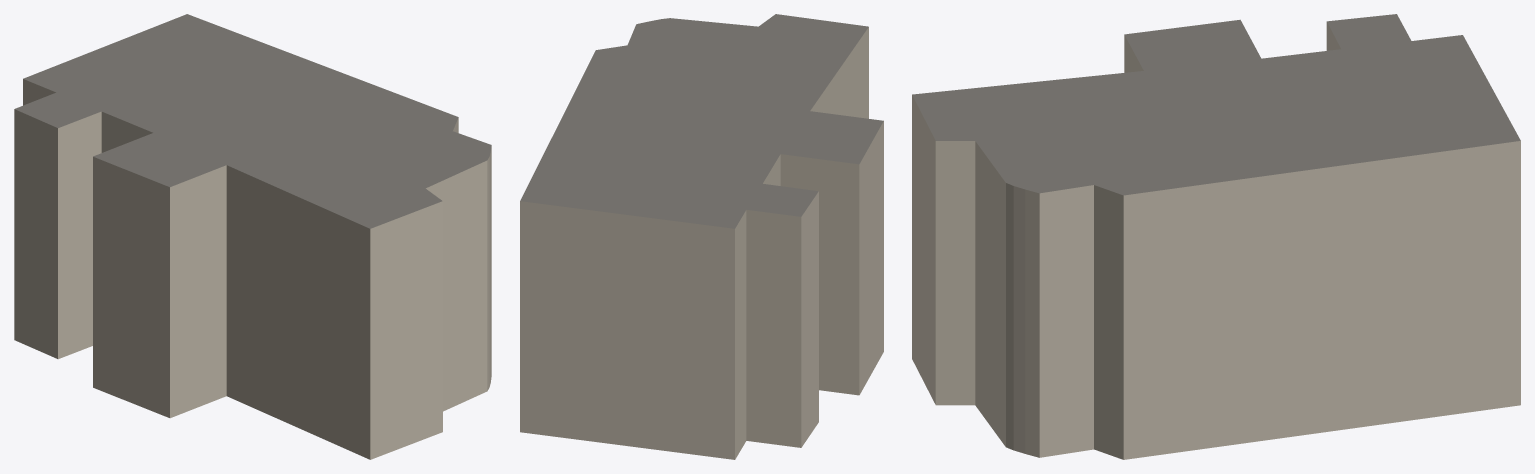
The picture shows the model from 3 angles, left to right: view 1: azimuth 30°, elevation 25°; view 2: azimuth 150°, elevation 25°; view 3: azimuth 270°, elevation 25°; orthographic projection. The views are drawn at different scales.
Parts seen in each view (by area): view 1: HP-w178408820; view 2: HP-w178408820; view 3: HP-w178408820.
Part boxes in pixels (left/top/right/bottom): HP-w178408820: left=14, top=14, right=491, bottom=459; HP-w178408820: left=520, top=14, right=883, bottom=459; HP-w178408820: left=912, top=14, right=1520, bottom=459.
Bounding box in the file's own units: 22.08 × 15 × 31.3.
